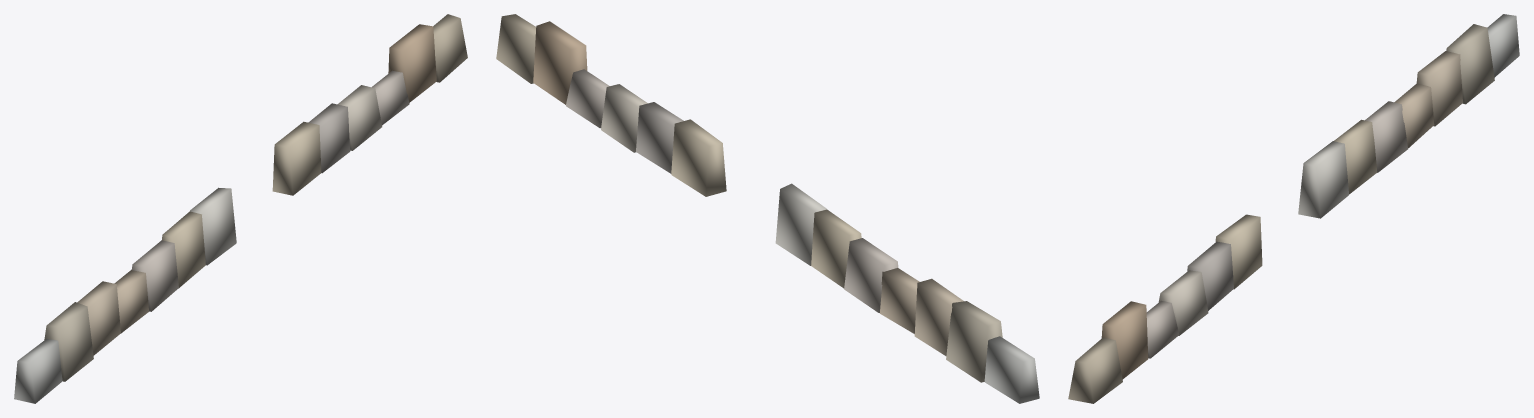
Rendered from farm_26_10_far.glb.
The picture shows the model from 3 angles, left to right: view 1: azimuth 90°, elevation 25°; view 2: azimuth 150°, elevation 25°; view 3: azimuth 270°, elevation 25°; orthographic projection. The views are drawn at different scales.
Parts seen in each view (by area): view 1: geometry_0; view 2: geometry_0; view 3: geometry_0.
Boxes of the visible parts, x1=… form: geometry_0: x1=14, y1=14, x2=467, y2=403; geometry_0: x1=496, y1=14, x2=1039, y2=403; geometry_0: x1=1068, y1=14, x2=1519, y2=403.
Size of the model in its own units: 21.1 by 1.54 by 11.47.
